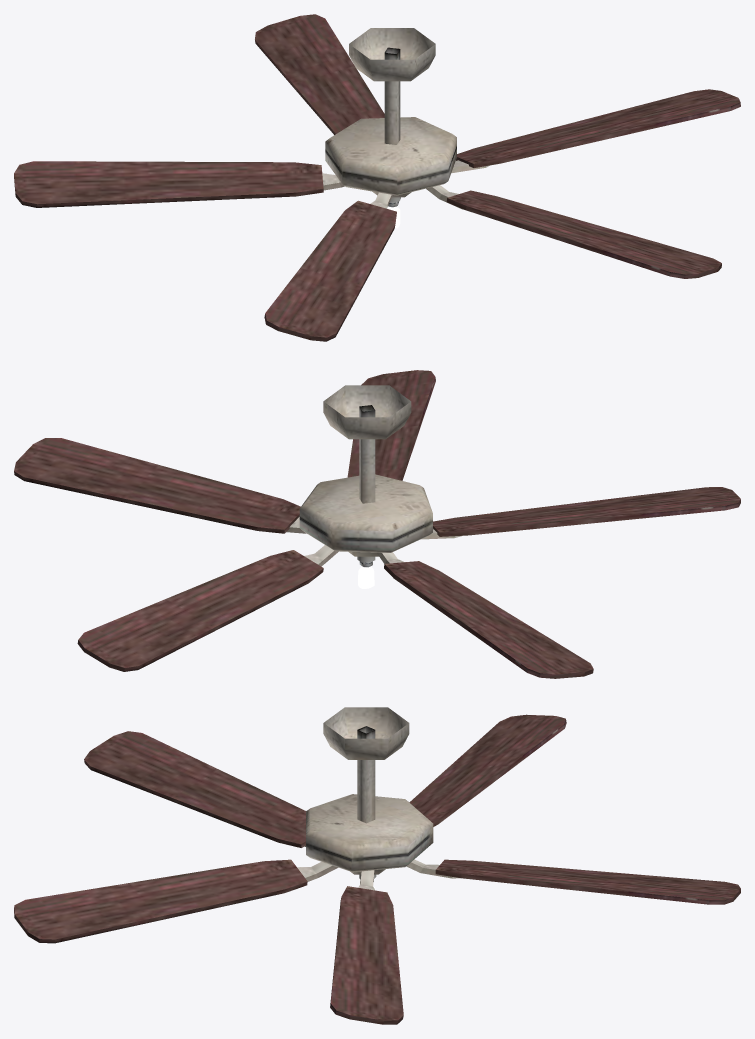
The model's file is FanWithLamp.fbx.
The picture shows the model from 3 angles, top to bottom: view 1: azimuth 30°, elevation 25°; view 2: azimuth 150°, elevation 25°; view 3: azimuth 270°, elevation 25°; orthographic projection. The views are drawn at different scales.
Parts seen in each view (by area): view 1: Ceiling_Fan_Blades_Ceiling_Fan_0.001, Focus_02_Focus_02_0.001; view 2: Ceiling_Fan_Blades_Ceiling_Fan_0.001, Focus_02_Focus_02_0.001; view 3: Ceiling_Fan_Blades_Ceiling_Fan_0.001, Focus_02_Focus_02_0.001.
Part boxes in pixels (x1,y1,x2,y2): Ceiling_Fan_Blades_Ceiling_Fan_0.001: (14,14,740,341); Focus_02_Focus_02_0.001: (325,28,456,228); Ceiling_Fan_Blades_Ceiling_Fan_0.001: (14,370,740,678); Focus_02_Focus_02_0.001: (299,385,432,588); Ceiling_Fan_Blades_Ceiling_Fan_0.001: (14,714,740,1024); Focus_02_Focus_02_0.001: (306,707,433,889).
Bounding box in the file's own units: 13753 × 3796 × 13794.
Materials: 3 (3 with a texture image).
